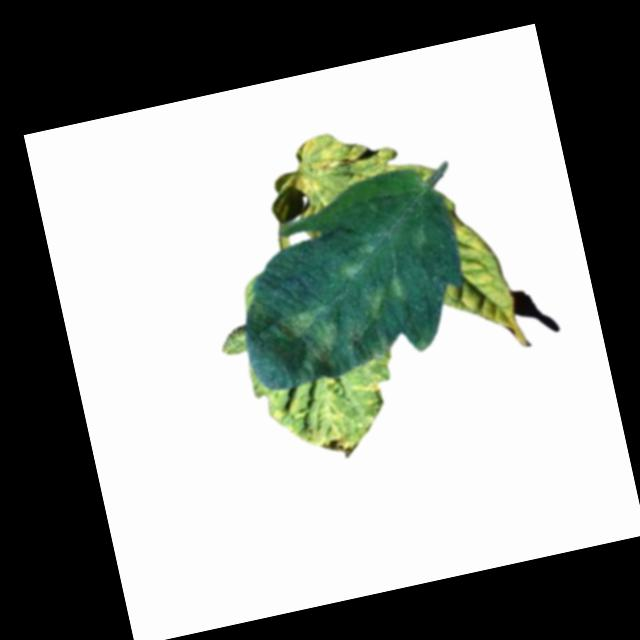Leaf_Mold: (425, 207, 521, 356), (266, 378, 396, 467), (277, 127, 365, 200), (263, 302, 345, 375)
